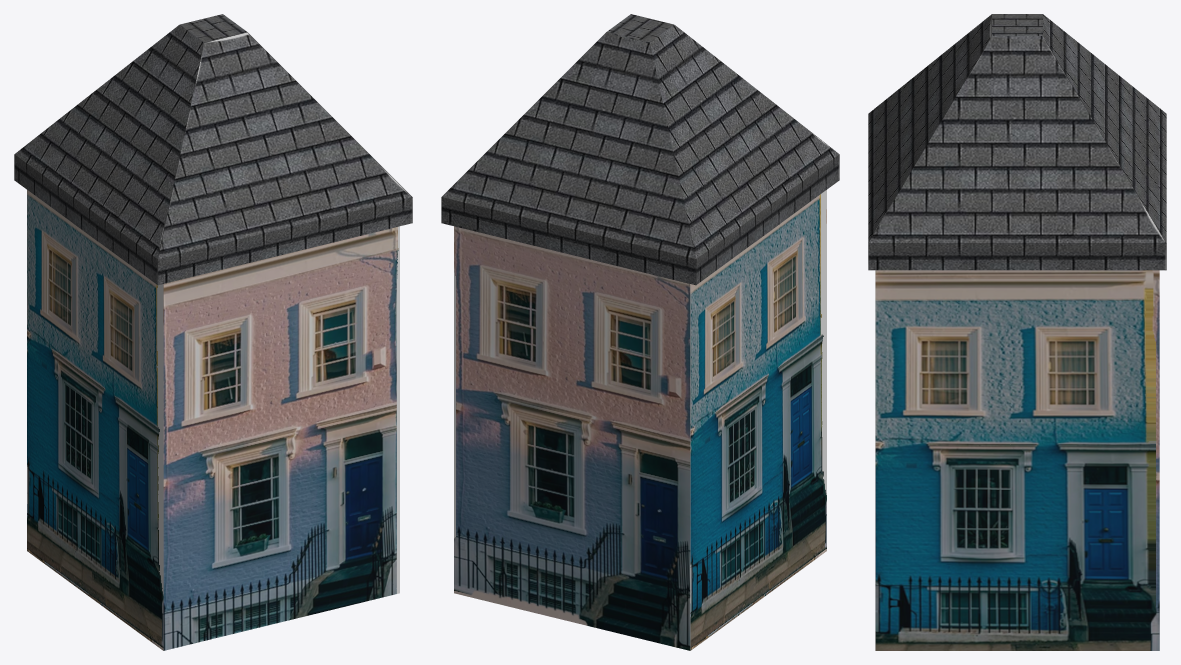
File: me_huse.glb
The picture shows the model from 3 angles, left to right: view 1: azimuth 30°, elevation 25°; view 2: azimuth 150°, elevation 25°; view 3: azimuth 270°, elevation 25°; orthographic projection. The views are drawn at different scales.
Visible parts, largest first — view 1: Cube.001, Cube.002; view 2: Cube.001, Cube.002; view 3: Cube.001, Cube.002.
Part boxes in pixels (x1,y1,x2,y2): Cube.001: (27, 190, 399, 650); Cube.002: (14, 14, 412, 285); Cube.001: (454, 190, 826, 650); Cube.002: (441, 14, 839, 285); Cube.001: (875, 270, 1159, 650); Cube.002: (868, 14, 1166, 270).
Size of the model in its own units: 2.15 by 4.4 by 2.1.
2 materials, 2 textured.
